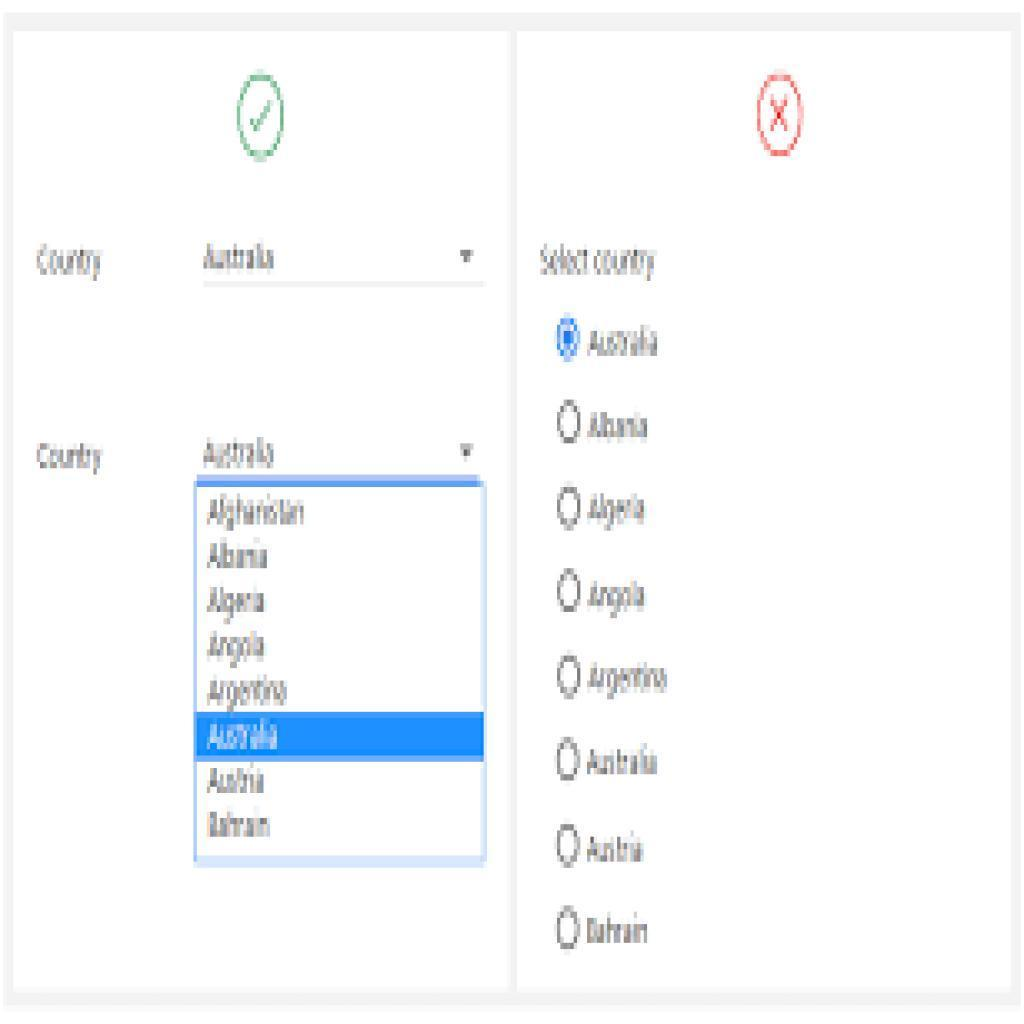radio: (555, 817, 580, 873), (557, 481, 583, 534), (554, 402, 583, 447), (555, 314, 581, 364), (557, 568, 583, 616), (554, 905, 581, 951), (558, 653, 582, 703), (557, 735, 583, 780)
